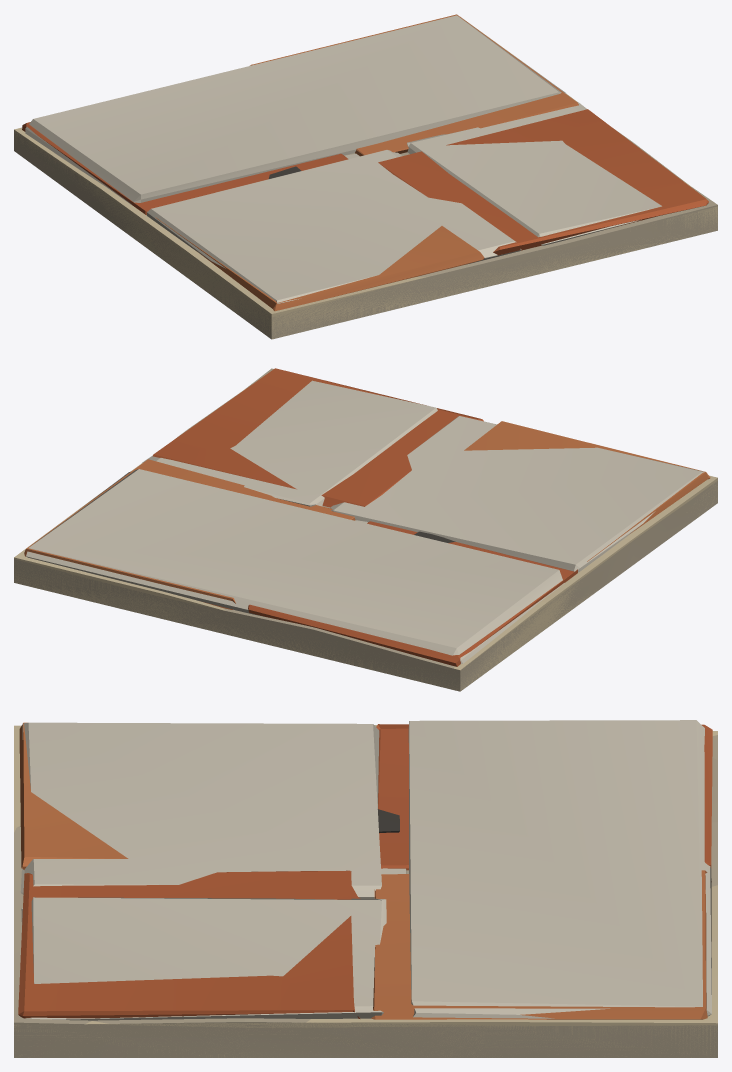
File: tile.cobble.glb
3 renders of one model, top to bottom at view 1: azimuth 30°, elevation 25°; view 2: azimuth 150°, elevation 25°; view 3: azimuth 270°, elevation 25°, orthographic. The views are drawn at different scales.
Visible parts, largest first — view 1: tile.cobble.v2.mesh, tile.cobble.v0.mesh, tile.cobble.v1.mesh; view 2: tile.cobble.v2.mesh, tile.cobble.v0.mesh, tile.cobble.v1.mesh; view 3: tile.cobble.v2.mesh, tile.cobble.v0.mesh, tile.cobble.v1.mesh.
Part boxes in pixels (bbox=[...]): tile.cobble.v2.mesh: bbox=[14, 15, 717, 338]; tile.cobble.v0.mesh: bbox=[14, 14, 717, 339]; tile.cobble.v1.mesh: bbox=[14, 19, 717, 339]; tile.cobble.v2.mesh: bbox=[14, 380, 717, 691]; tile.cobble.v0.mesh: bbox=[14, 368, 717, 691]; tile.cobble.v1.mesh: bbox=[14, 388, 717, 691]; tile.cobble.v2.mesh: bbox=[14, 720, 717, 1057]; tile.cobble.v0.mesh: bbox=[14, 722, 717, 1057]; tile.cobble.v1.mesh: bbox=[14, 725, 717, 1057].
Bounding box in the file's own units: 1 × 0.0764 × 1.
